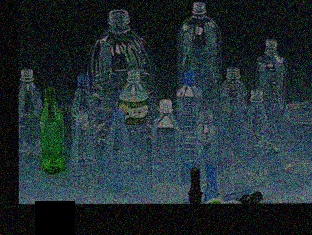bottle: (32, 85, 68, 182), (100, 108, 136, 194), (152, 91, 178, 195), (243, 85, 268, 185)
